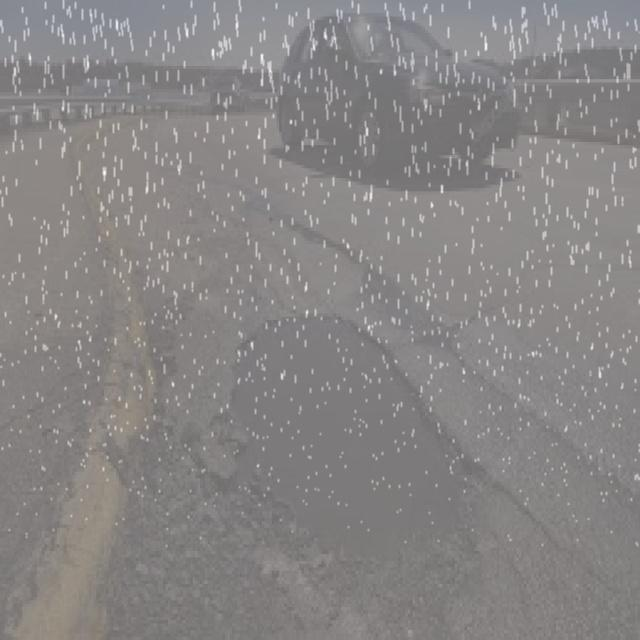Pothole: (193, 284, 495, 630)
